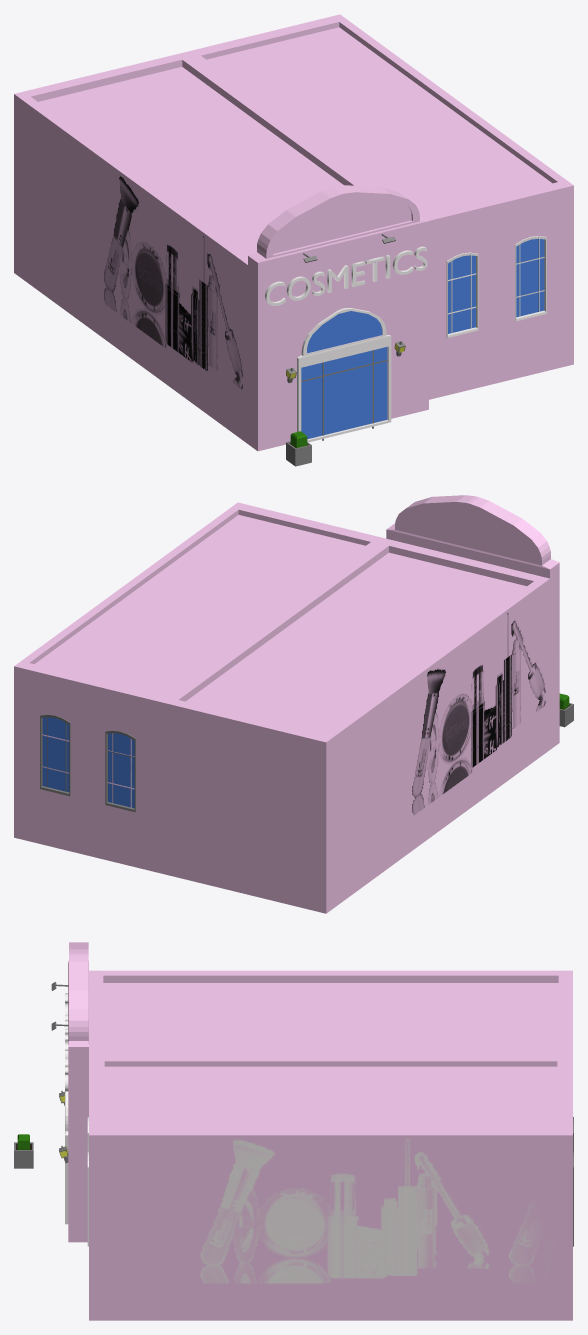
Rendered from Cosmetics.fbx.
The picture shows the model from 3 angles, top to bottom: view 1: azimuth 30°, elevation 25°; view 2: azimuth 150°, elevation 25°; view 3: azimuth 270°, elevation 25°; orthographic projection. The views are drawn at different scales.
Parts seen in each view (by area): view 1: Cube.003, Text.016, Cube.013, Cube.002; view 2: Cube.003, Cube.009; view 3: Cube.003, Cube.002.
Boxes of the visible parts, box(x1,y1,x2,y2) form: Cube.003: box(14, 14, 573, 451); Text.016: box(265, 246, 427, 305); Cube.013: box(446, 236, 546, 337); Cube.002: box(286, 431, 311, 466); Cube.003: box(14, 495, 559, 913); Cube.009: box(40, 714, 135, 812); Cube.003: box(65, 942, 572, 1320); Cube.002: box(14, 1134, 33, 1168).
Bounding box in the file's own units: 466 × 329 × 670.
